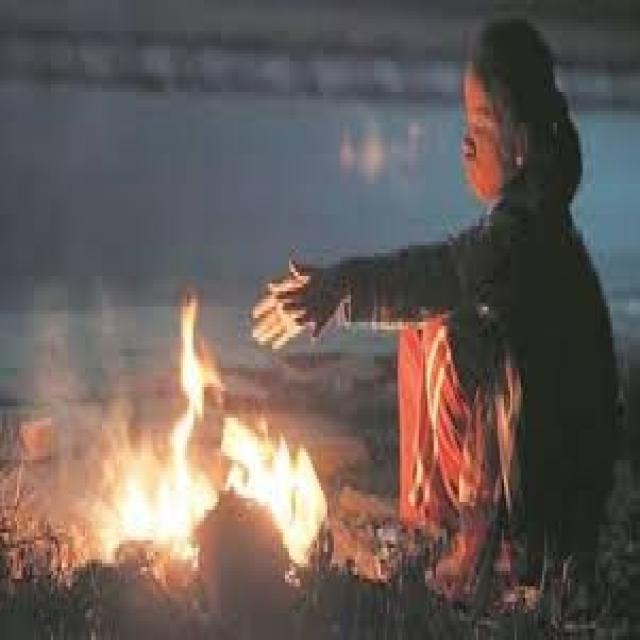fire: (94, 402, 218, 559), (220, 417, 327, 563), (179, 286, 221, 402)
